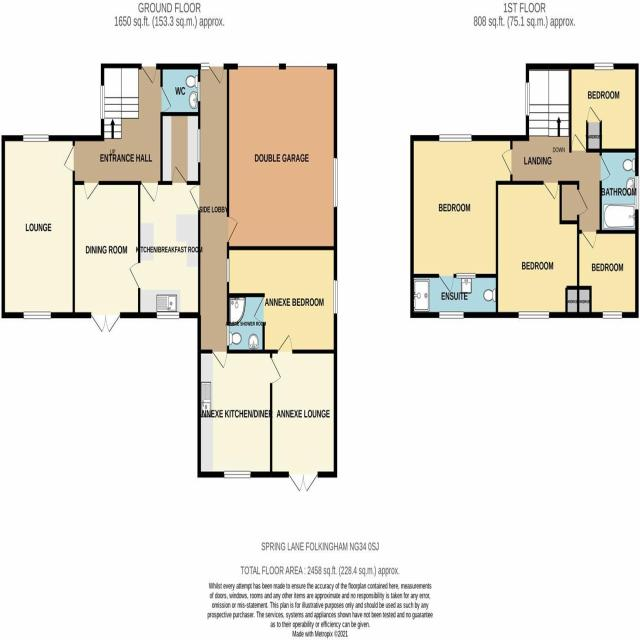DOOR: (140, 179, 160, 204), (140, 62, 158, 87), (159, 84, 173, 116), (437, 272, 456, 295), (208, 62, 225, 87), (62, 143, 76, 173), (188, 183, 201, 215), (253, 293, 266, 325), (82, 179, 100, 202), (276, 332, 294, 355), (580, 228, 598, 251), (542, 178, 559, 202), (500, 147, 514, 176), (570, 132, 589, 153), (211, 348, 229, 370), (128, 260, 141, 290), (269, 356, 282, 386), (599, 154, 612, 184), (171, 163, 188, 185)
ROOM: (409, 132, 513, 294), (1, 135, 76, 319), (226, 244, 338, 355), (127, 160, 201, 319), (495, 180, 580, 318), (71, 179, 142, 335), (269, 332, 338, 492), (197, 350, 282, 478), (568, 62, 639, 153), (577, 228, 639, 318)
WINDOW: (438, 133, 473, 144), (518, 310, 550, 320), (23, 310, 52, 321), (22, 133, 50, 144), (223, 469, 251, 480), (438, 310, 464, 320), (332, 279, 339, 314), (593, 61, 615, 72), (156, 310, 180, 320), (602, 309, 623, 320), (634, 174, 640, 212), (524, 82, 530, 116), (197, 128, 202, 164), (100, 84, 105, 119), (456, 272, 477, 280), (225, 258, 230, 284), (200, 62, 210, 71), (197, 81, 201, 103)
